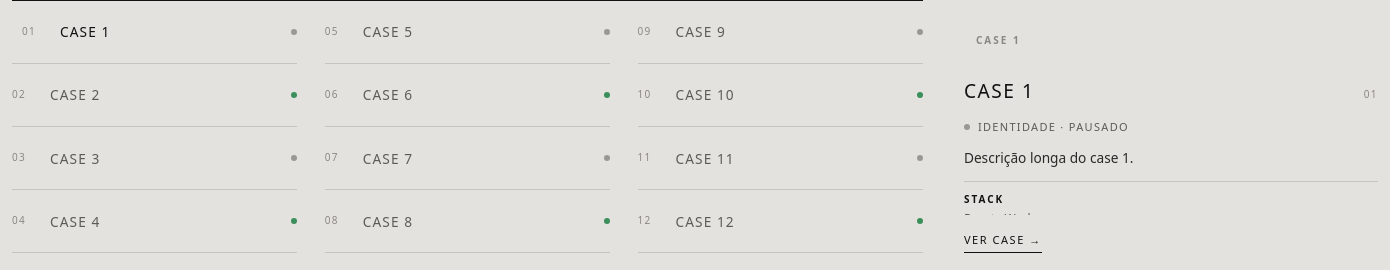
Test: CasesBoard › follows the cursor down the index
Hover over the text "Case 5" at (388, 32), box [363,22,413,41]
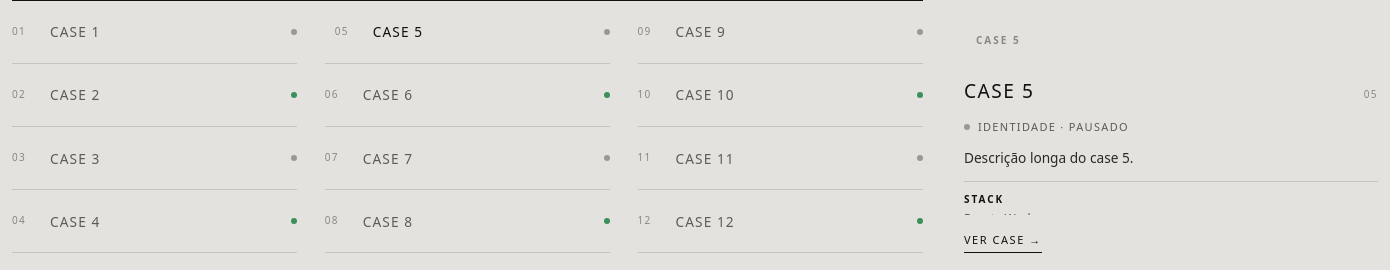
Now the text "Descrição longa do case 5." is shown, box [964,148,1133,167]
Now the text "Descrição longa do case 1." is gone
